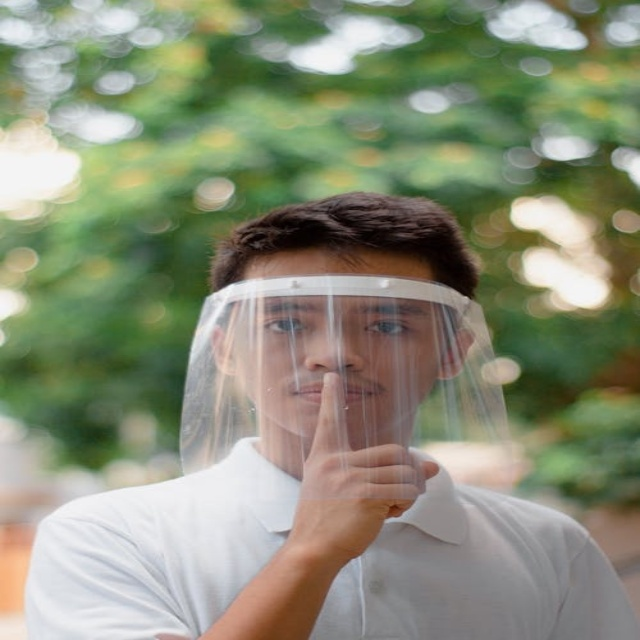Sin_gafas: (253, 300, 421, 351)
Sin_guantes: (293, 375, 435, 550)
Sin_mascara: (285, 375, 370, 411)
